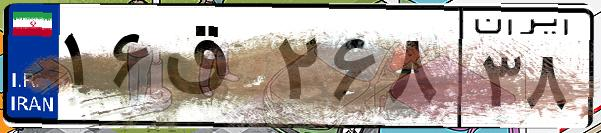1: (57, 26, 110, 100)
2: (270, 28, 330, 110)
3: (475, 38, 525, 113)
6: (330, 28, 385, 110), (110, 28, 158, 98)
8: (385, 28, 445, 110), (525, 38, 570, 115)
ق: (158, 20, 270, 120)
